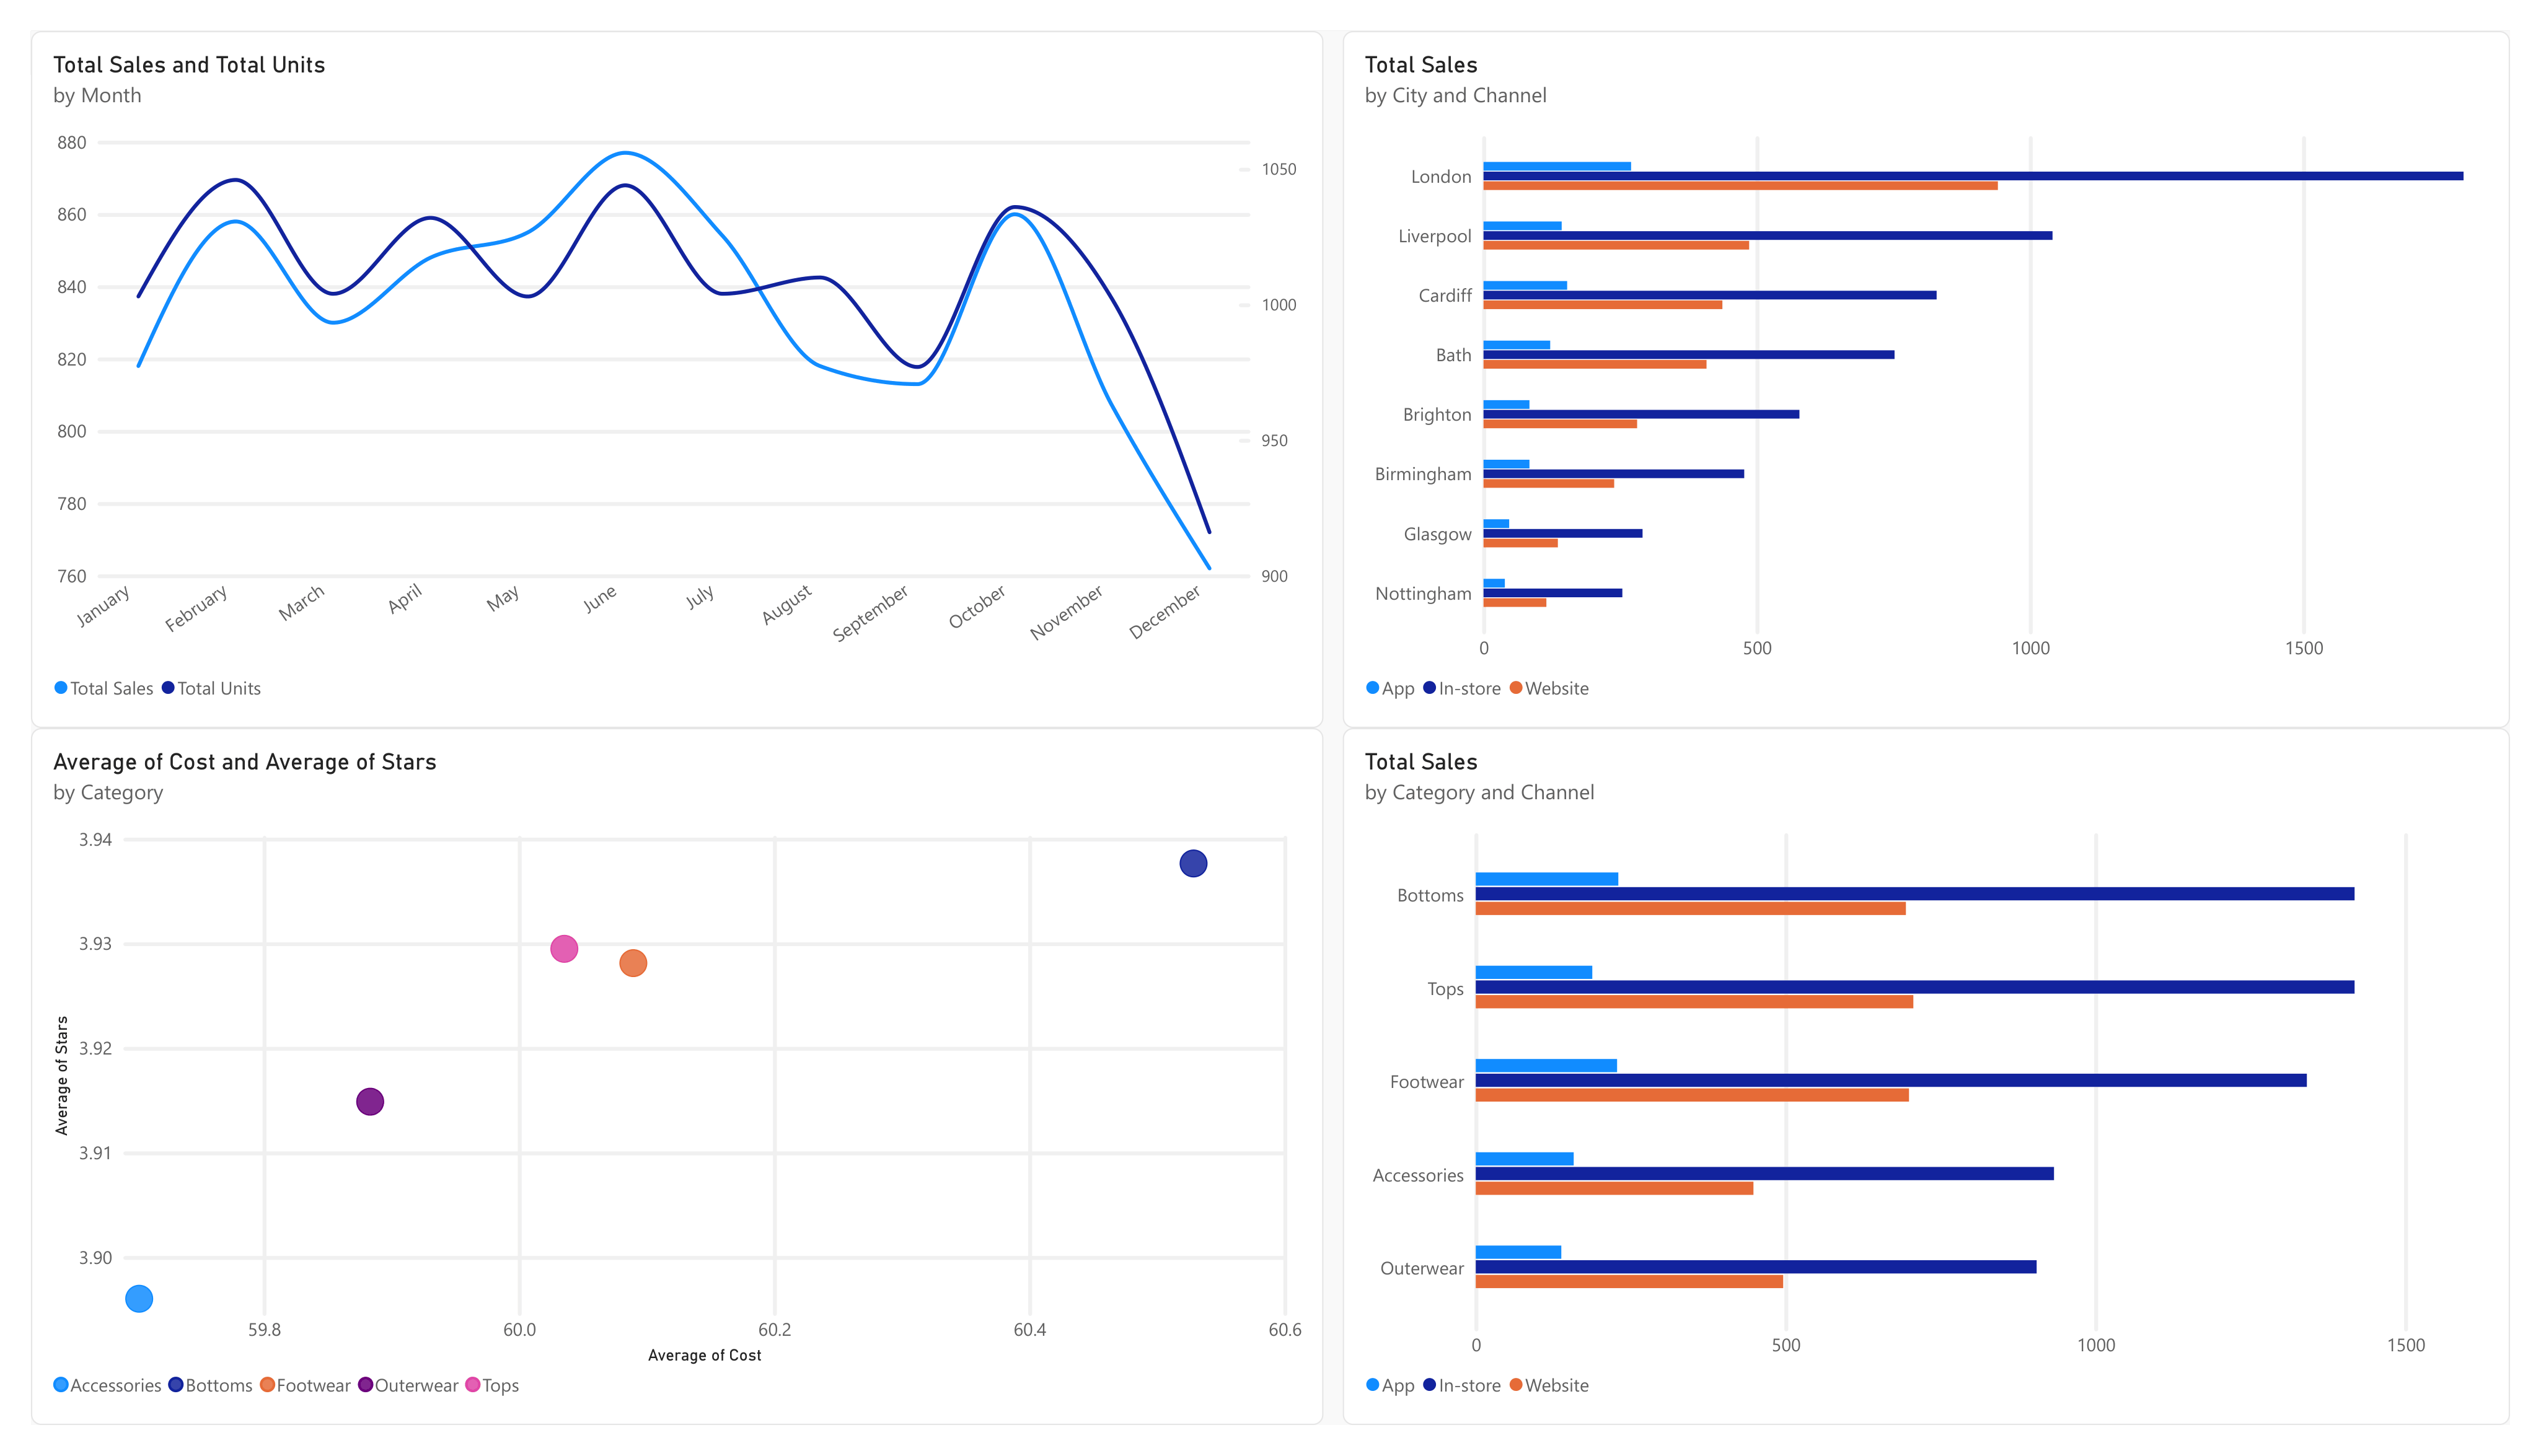

This screenshot's page, from the dashboard's own definition file:
{"tool":"powerbi","page":{"name":"Page 2","canvas":[1920,1080],"ordinal":4},"visuals":[{"type":"lineChart","fields":{"Category":["fake_data.Date.Variation.Date Hierarchy.Month"],"Y":["fake_data.Total Sales"],"Y2":["fake_data.Total Units"]},"box":[0,0,1001.4,540],"z":0},{"type":"scatterChart","fields":{"Series":["fake_data.Category"],"X":["Avg(fake_data.Cost)"],"Y":["Avg(fake_data.Stars)"]},"box":[0,540,1001.4,540],"z":1000},{"type":"clusteredBarChart","fields":{"Category":["fake_data.City"],"Series":["fake_data.Channel"],"Y":["fake_data.Total Sales"]},"box":[1015.7,0,904.3,540],"z":2000},{"type":"clusteredBarChart","fields":{"Category":["fake_data.Category"],"Series":["fake_data.Channel"],"Y":["fake_data.Total Sales"]},"box":[1015.7,540,904.3,540],"z":3000}]}

Visuals, with their boxes on the page's 1920x1080 design canvas (x1, y1, x2, y2). These are canvas units, not pixel positions in the 2541x1456 screenshot, which may show the page scaled, cropped or inside an application window:
lineChart - fake_data.Date.Variation.Date Hierarchy.Month x fake_data.Total Sales: (0, 0, 1001, 540)
scatterChart - fake_data.Category x Avg(fake_data.Cost): (0, 540, 1001, 1080)
clusteredBarChart - fake_data.City x fake_data.Channel: (1016, 0, 1920, 540)
clusteredBarChart - fake_data.Category x fake_data.Channel: (1016, 540, 1920, 1080)
